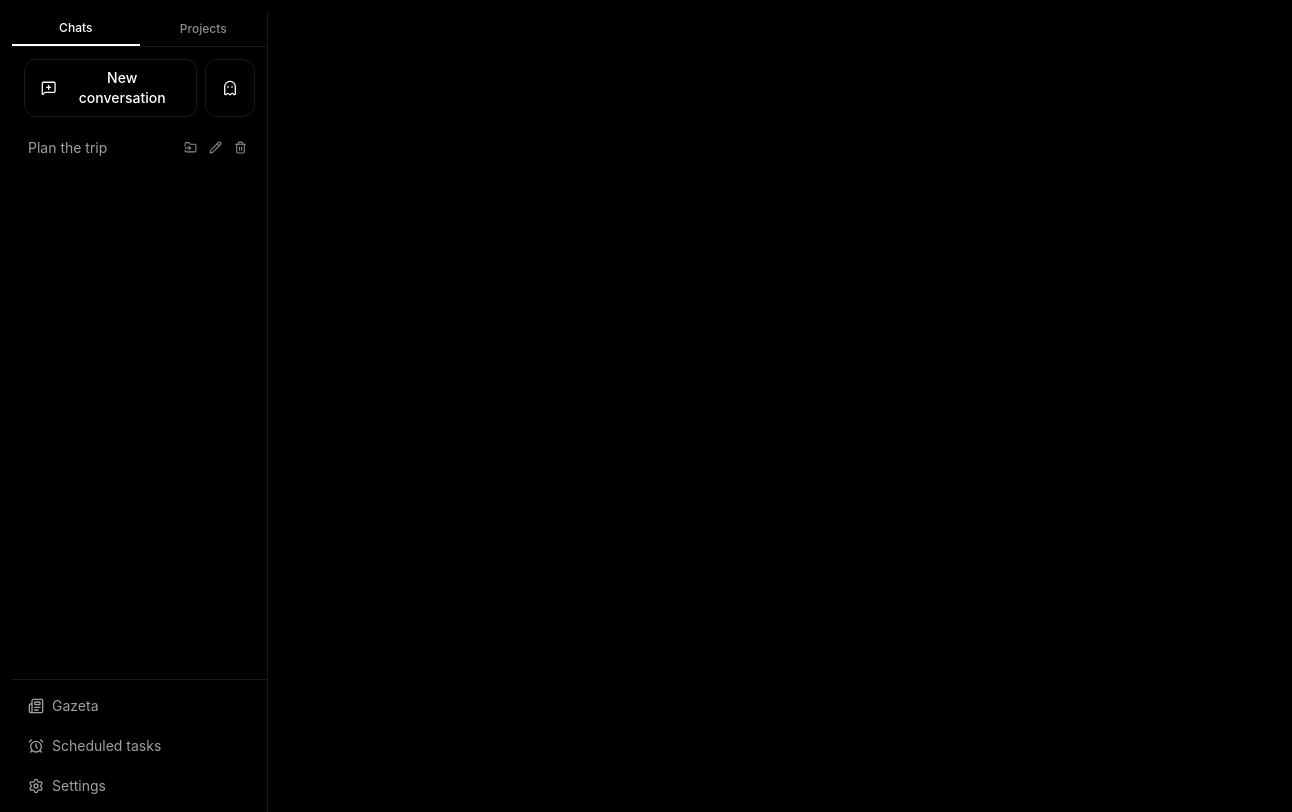
Test: Sidebar: move a chat to a project › closes on Escape and on a click elsewhere
Click the button named "Move Plan the trip to a project": [190, 148] box [180, 137, 201, 158]
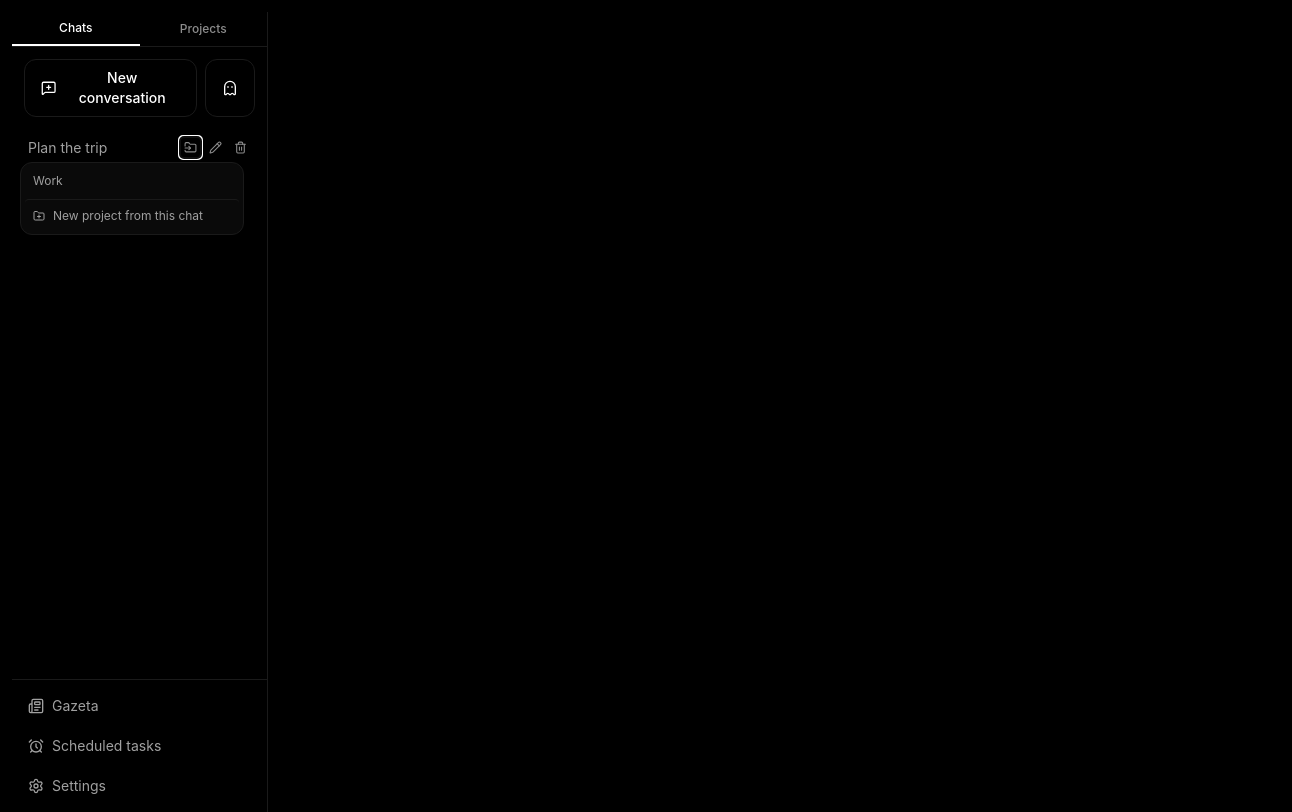
Press Escape
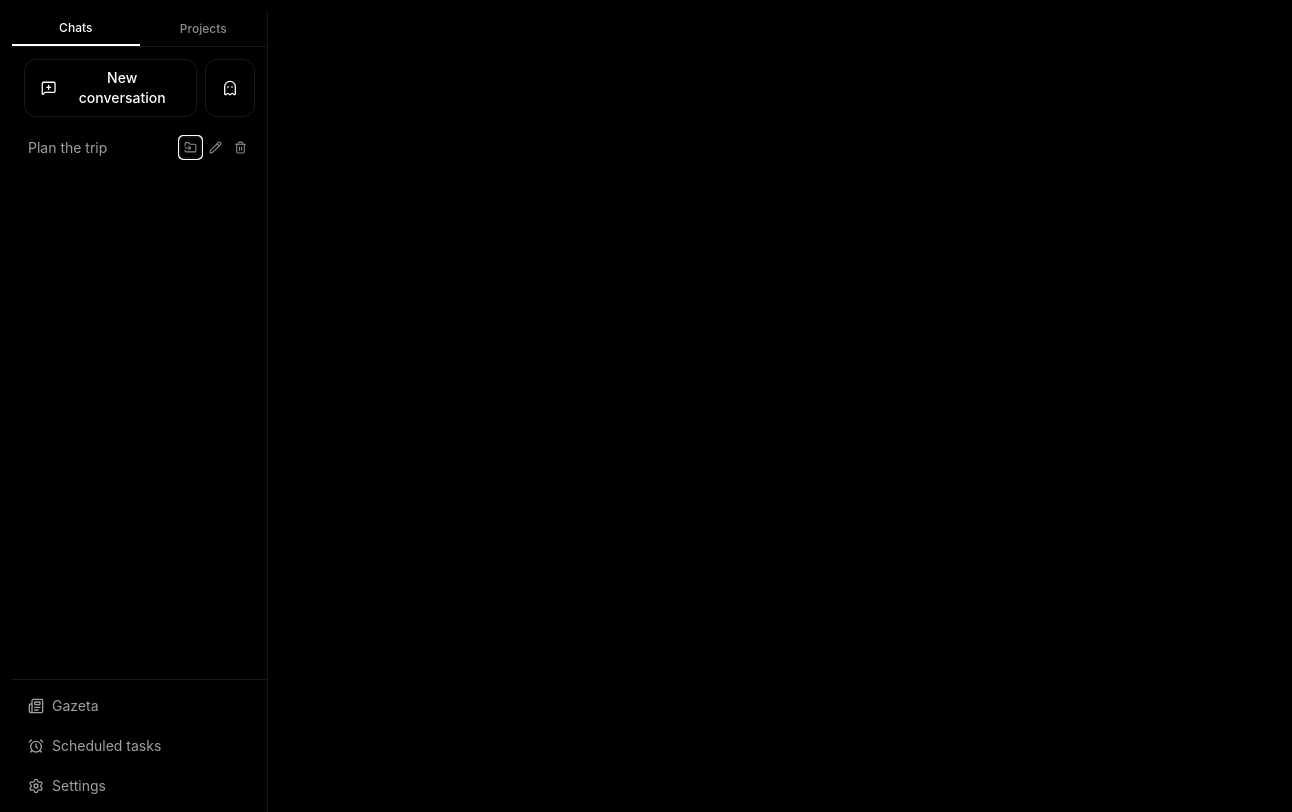
Check: the menu is gone
Click the button named "Move Plan the trip to a project": [190, 148] box [180, 137, 201, 158]
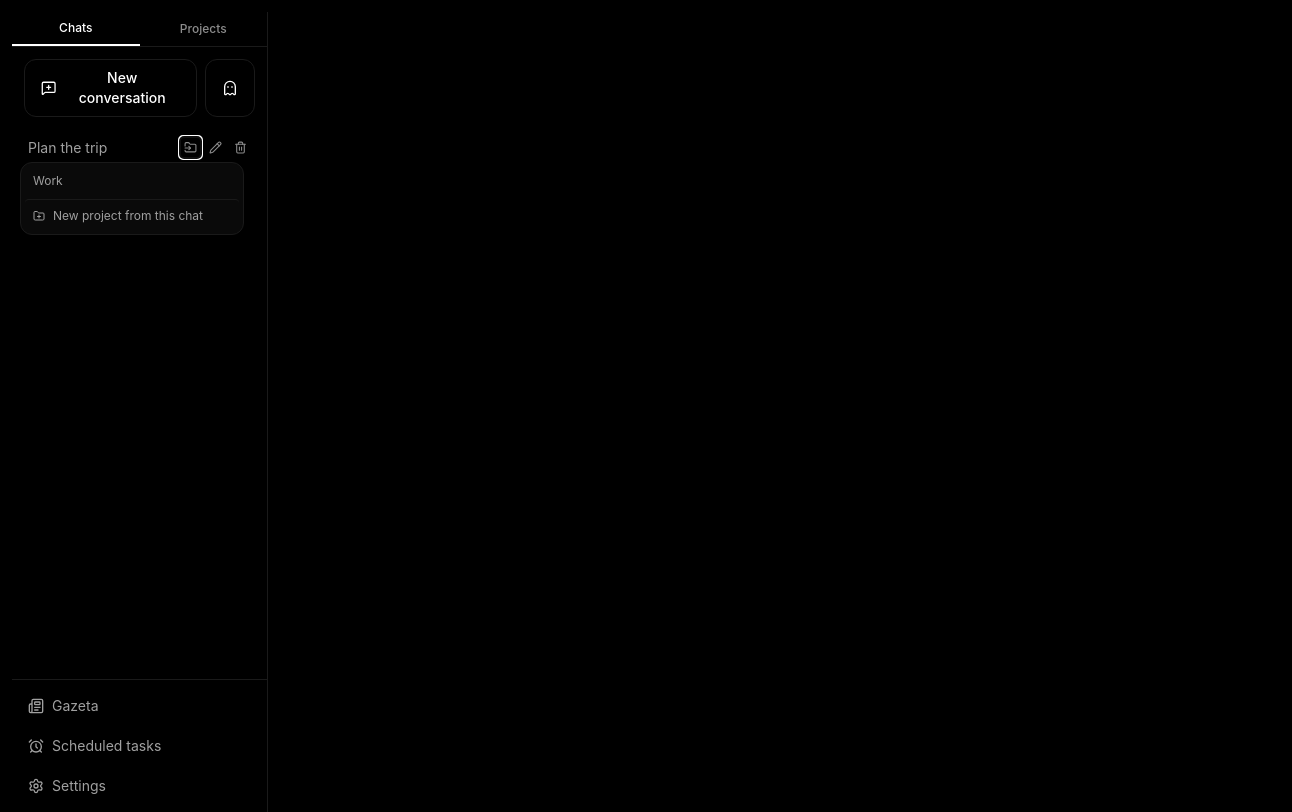
Click the element that starts with "Chats": [652, 412] box [12, 12, 1291, 811]
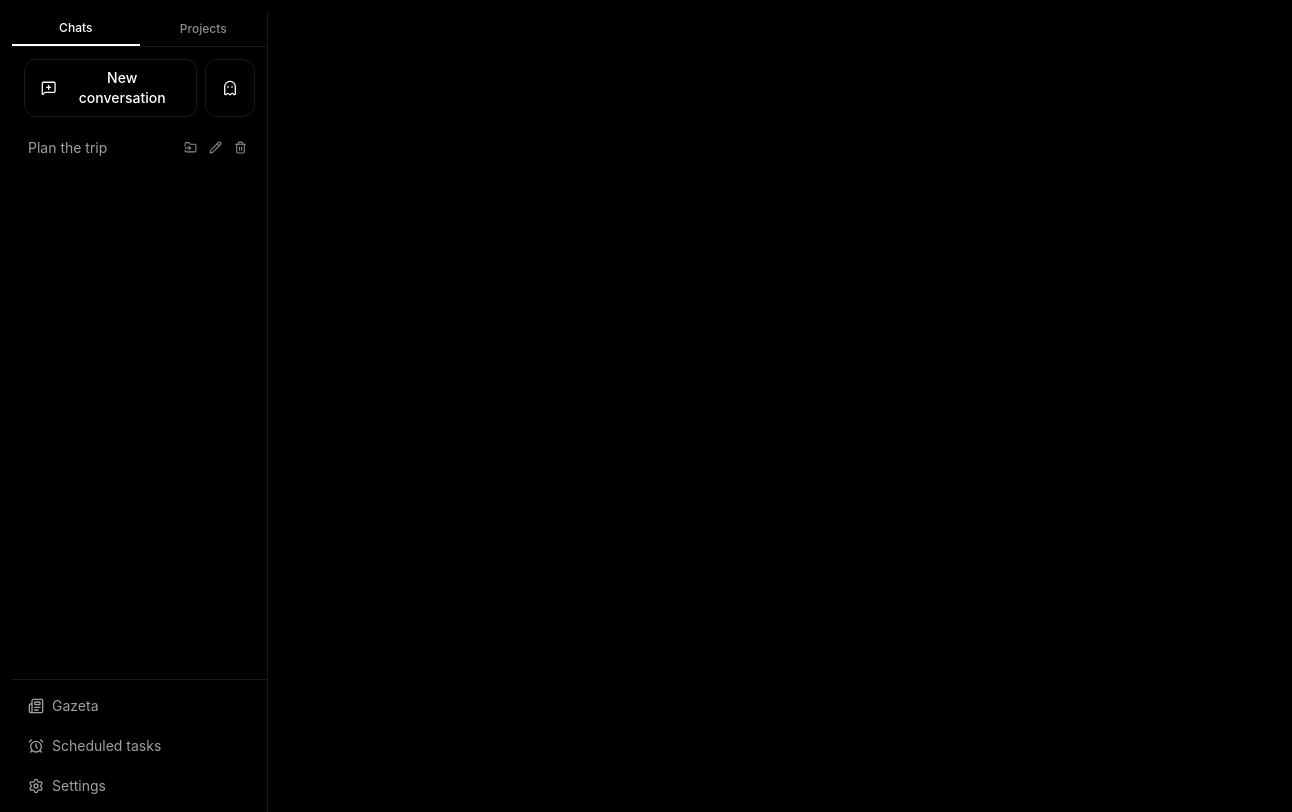
Check: the menu is gone
